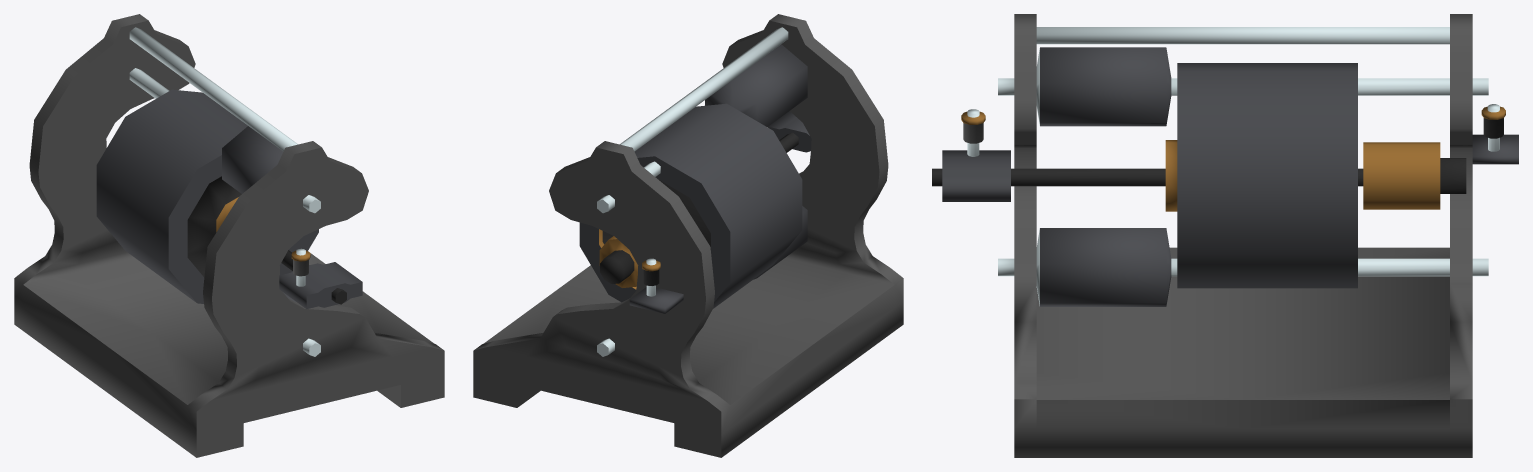
File: Machine.fbx
3 renders of one model, left to right at view 1: azimuth 30°, elevation 25°; view 2: azimuth 150°, elevation 25°; view 3: azimuth 270°, elevation 25°, orthographic. The views are drawn at different scales.
Parts seen in each view (by area): view 1: Cube; view 2: Cube; view 3: Cube.
Boxes of the visible parts, left/top/right/bottom form: Cube: left=14, top=14, right=444, bottom=457; Cube: left=473, top=14, right=903, bottom=457; Cube: left=932, top=14, right=1518, bottom=457.
Bounding box in the file's own units: 200 × 216 × 326.
